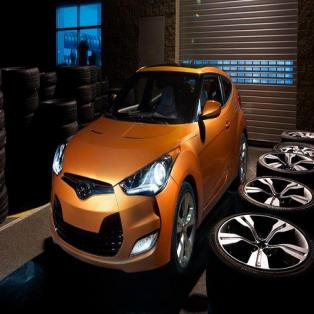Auto: (43, 48, 254, 290)
